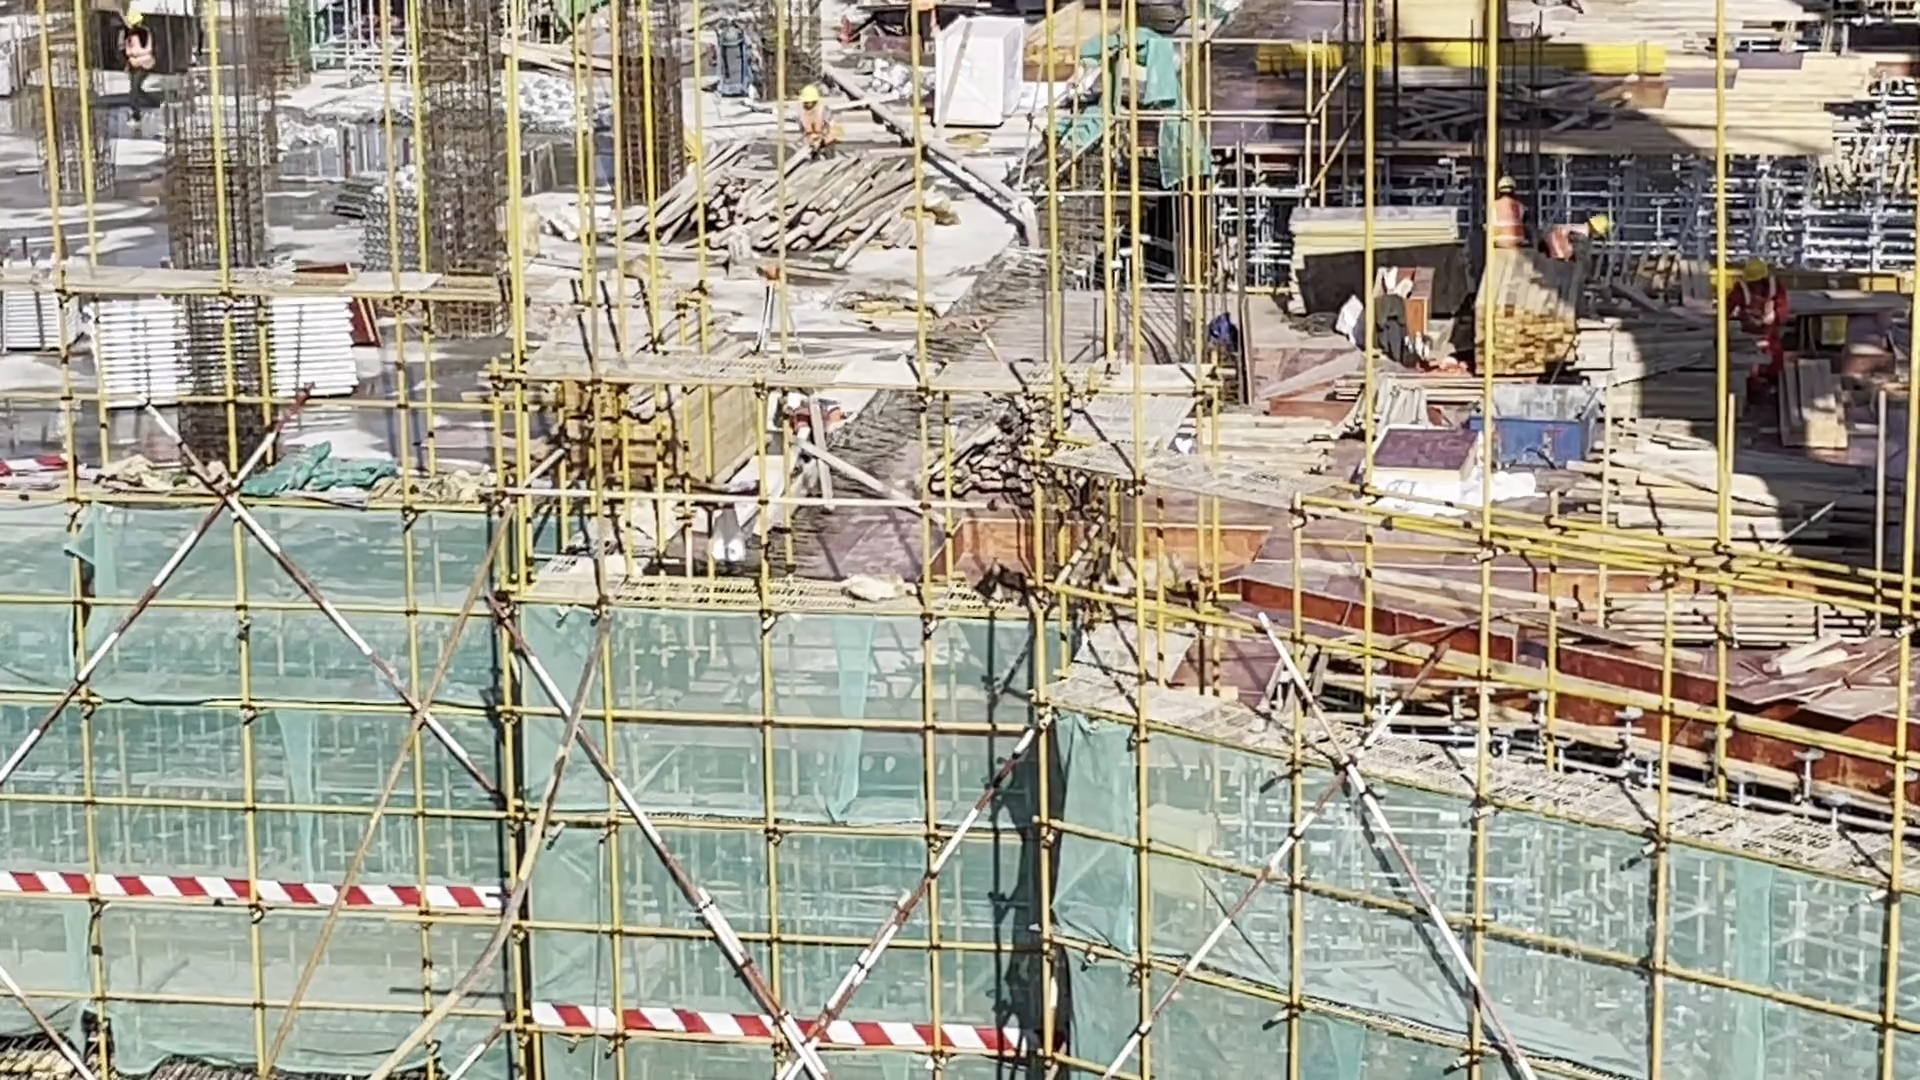board: (1754, 641, 1907, 739)
helmet: (1738, 256, 1769, 292), (1581, 212, 1611, 243), (797, 84, 821, 117), (1491, 172, 1517, 201), (779, 389, 803, 416)
hopper: (1475, 385, 1604, 478)
person: (1720, 246, 1785, 369), (110, 4, 166, 134), (765, 393, 846, 451), (1544, 207, 1610, 269), (797, 87, 839, 158), (1493, 175, 1528, 246)
scaffold: (82, 301, 366, 400), (7, 250, 80, 356)
vest: (1735, 283, 1771, 335), (1492, 202, 1525, 243), (1547, 216, 1580, 254)
wood: (506, 279, 774, 501), (658, 145, 949, 268), (1600, 585, 1860, 665), (1467, 265, 1591, 390)
